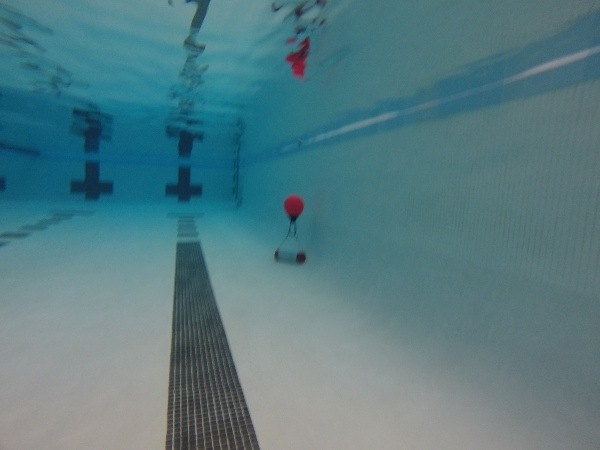buoy_red: (284, 193, 304, 224)
